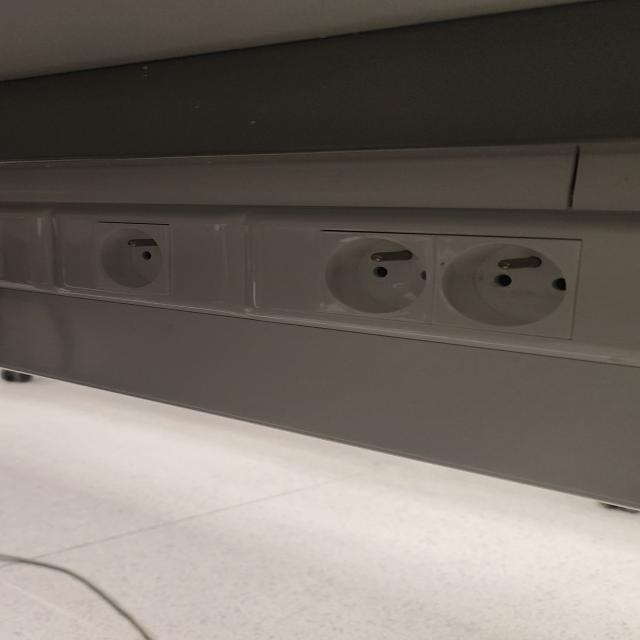house plug: (422, 233, 591, 344), (317, 228, 439, 324), (89, 221, 178, 296)
